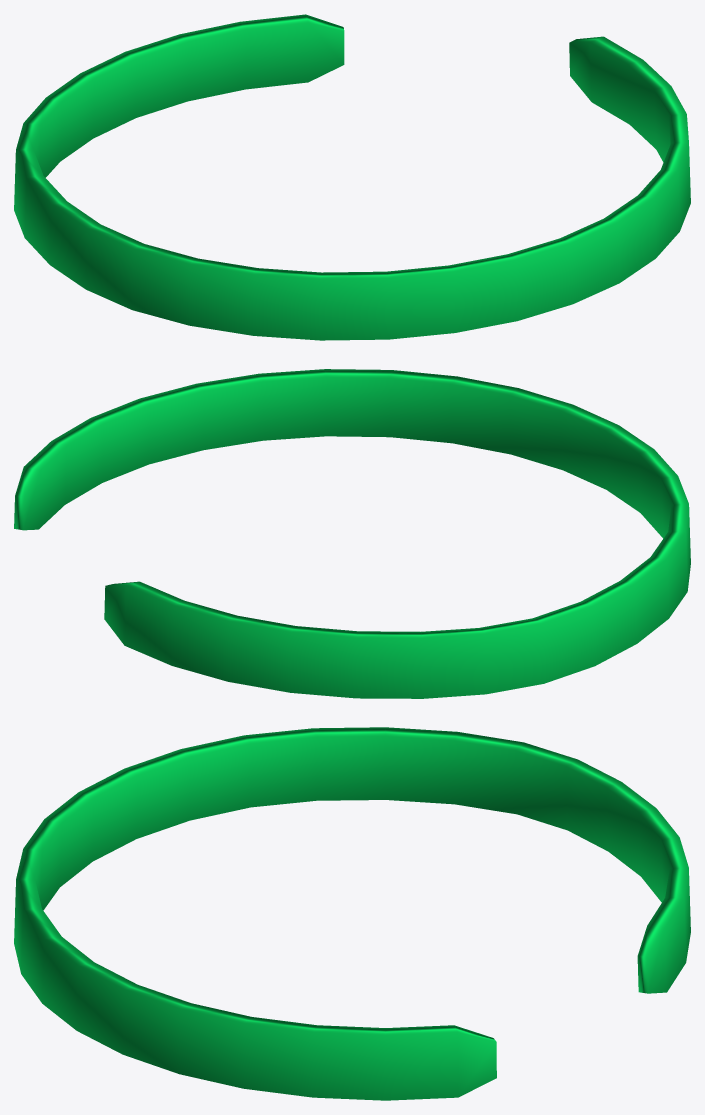
Rendered from Barrel_Break_Metal_01.fbx.
The picture shows the model from 3 angles, top to bottom: view 1: azimuth 30°, elevation 25°; view 2: azimuth 150°, elevation 25°; view 3: azimuth 270°, elevation 25°; orthographic projection. The views are drawn at different scales.
Visible parts, largest first — view 1: Barrel_Break_Metal_01; view 2: Barrel_Break_Metal_01; view 3: Barrel_Break_Metal_01.
Boxes of the visible parts, bbox=[...] form: Barrel_Break_Metal_01: bbox=[14, 14, 690, 340]; Barrel_Break_Metal_01: bbox=[14, 369, 690, 698]; Barrel_Break_Metal_01: bbox=[14, 727, 690, 1100].
Bounding box in the file's own units: 65.09 × 6.42 × 60.12.
